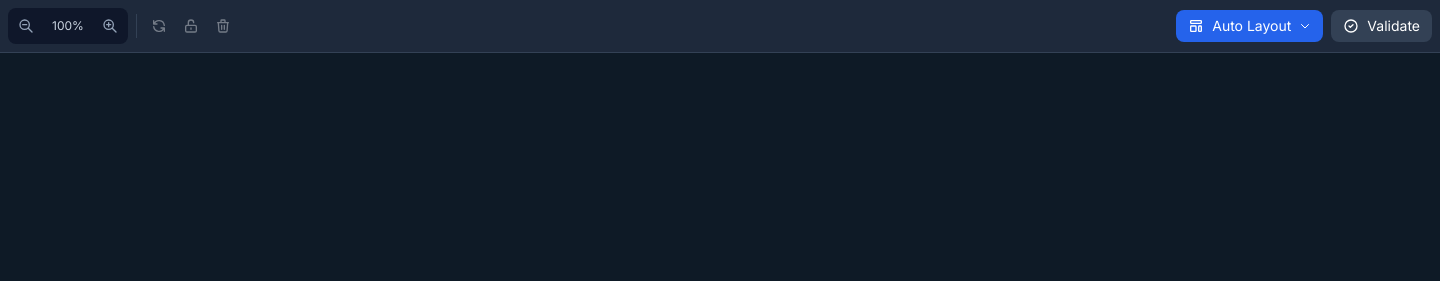
Test: LayoutToolbar › closes auto layout dropdown when option selected
Click the button "Auto Layout" at (1250, 26), box [1176, 10, 1323, 42]
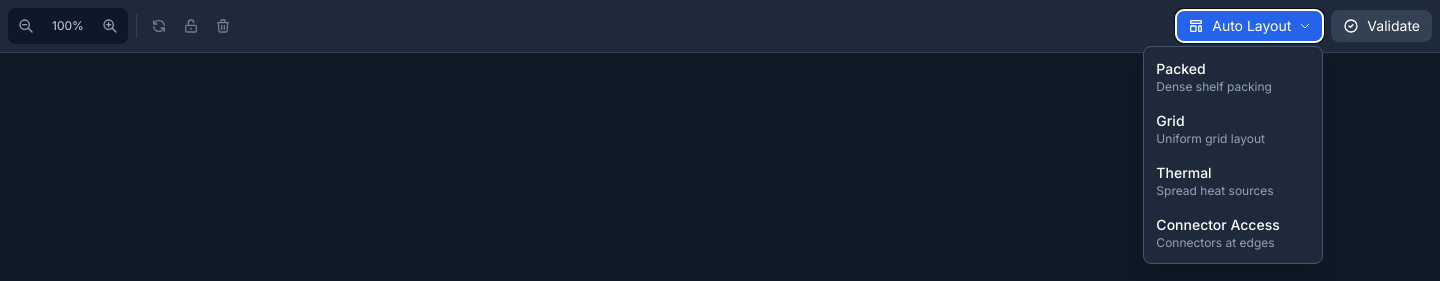
expect the text "Packed" is shown: met
Click the text "Packed" at (1181, 68), box [1156, 60, 1206, 77]
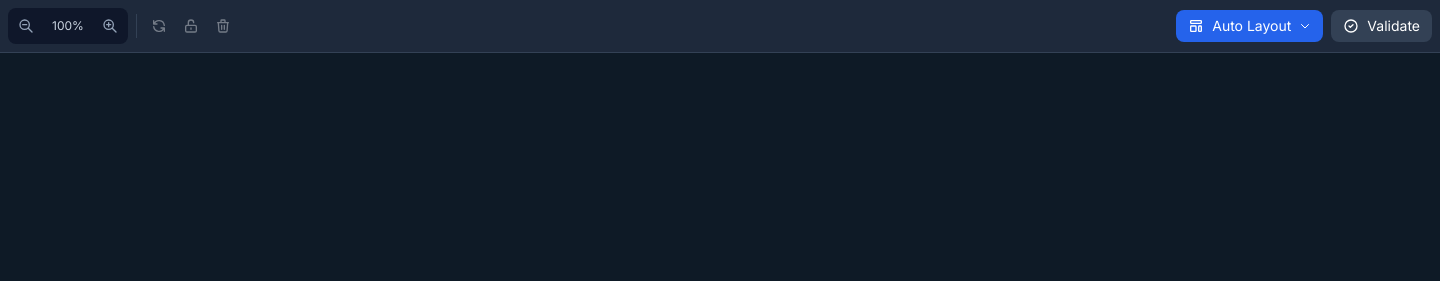
expect the button "Dense shelf packing" is gone: met
